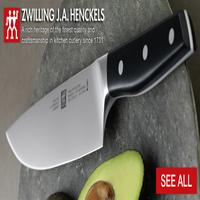knife: (4, 10, 191, 174)
